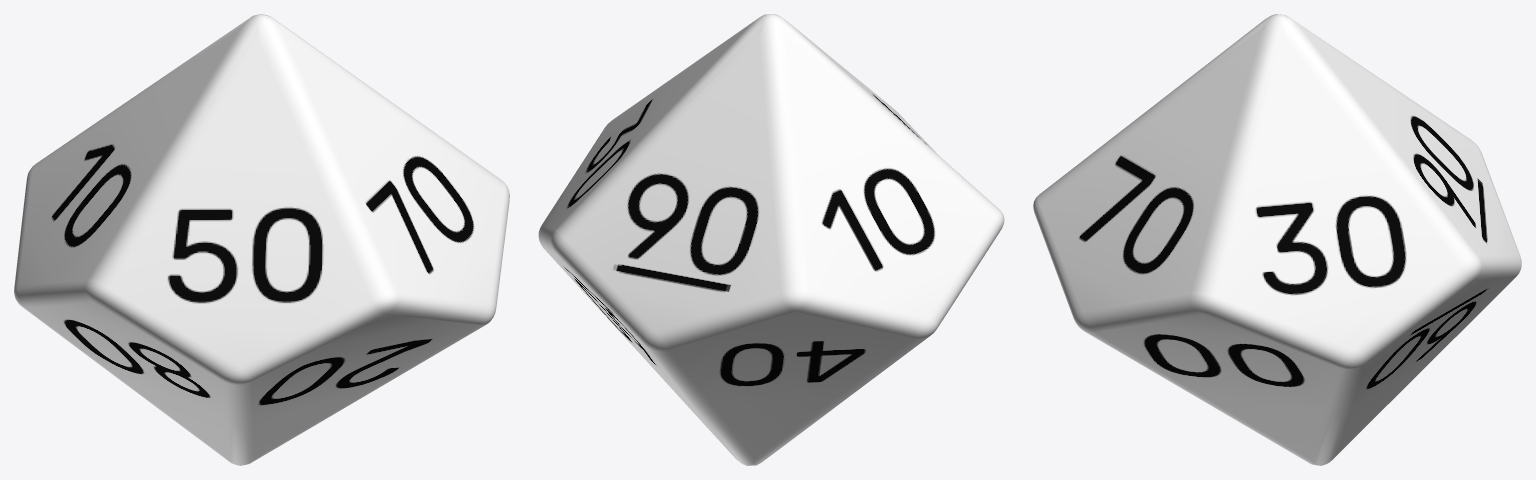
The model's file is Dado100.FBX.
3 views of the same model, side by side, from view 1: azimuth 30°, elevation 25°; view 2: azimuth 150°, elevation 25°; view 3: azimuth 270°, elevation 25° (orthographic). The views are drawn at different scales.
Parts seen in each view (by area): view 1: Dado100; view 2: Dado100; view 3: Dado100.
Boxes of the visible parts, x1=… form: Dado100: x1=14, y1=14, x2=509, y2=465; Dado100: x1=538, y1=14, x2=1004, y2=465; Dado100: x1=1033, y1=14, x2=1521, y2=465.
Size of the model in its own units: 236 by 249 by 246.
